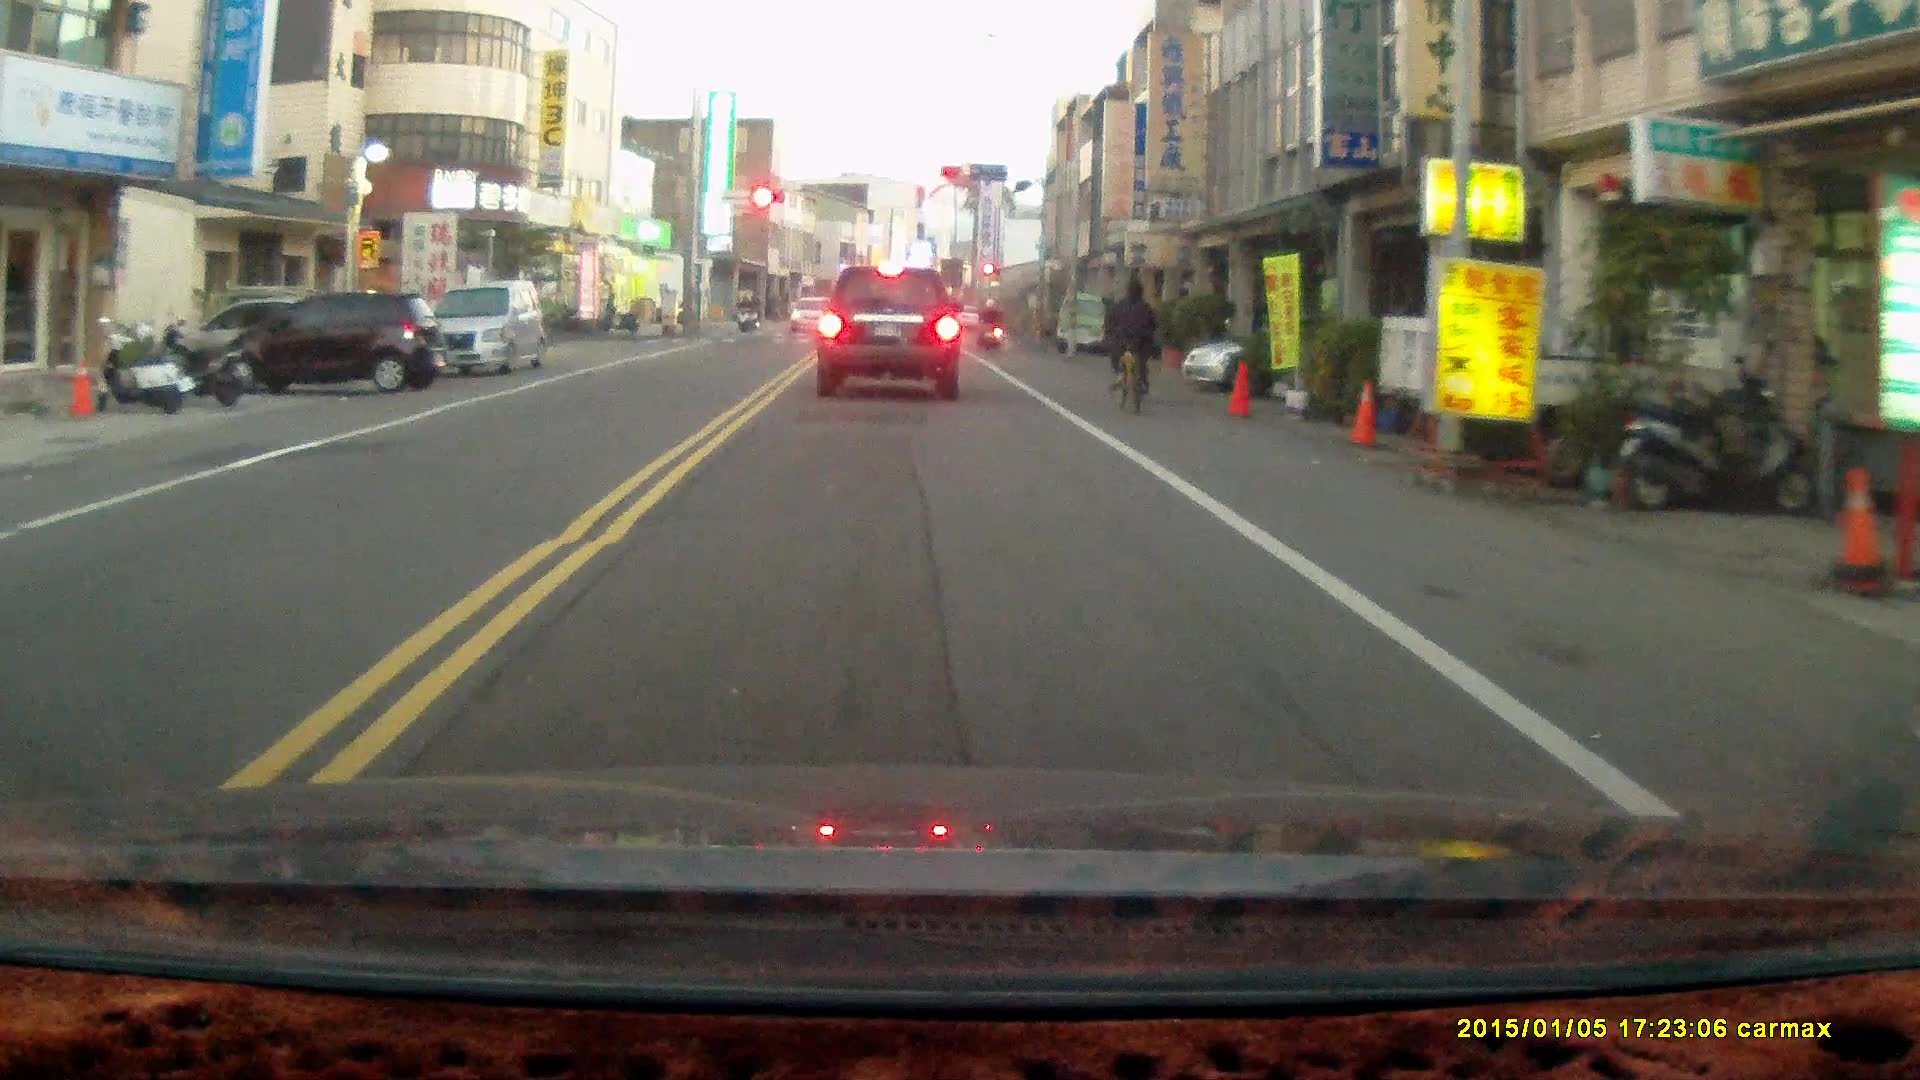rider: (1103, 273, 1158, 415), (974, 294, 1002, 353), (735, 289, 758, 332)
vehicle: (226, 292, 445, 396), (815, 263, 966, 403), (1180, 317, 1432, 399), (406, 274, 545, 381)
